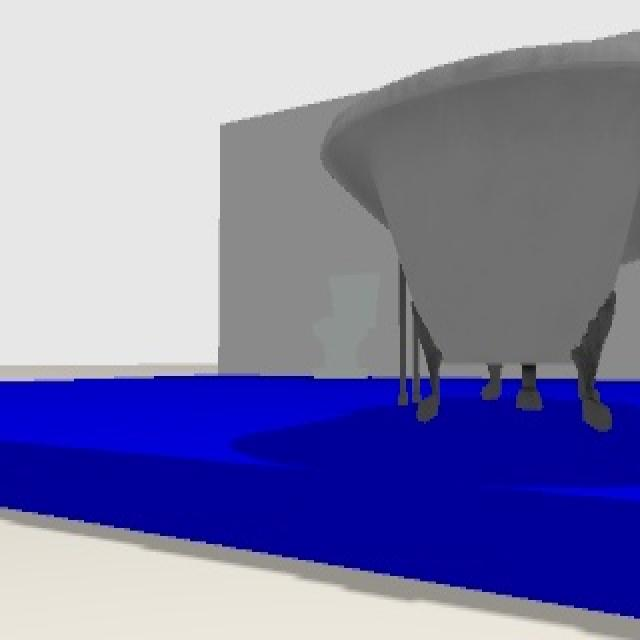bathtub: (320, 40, 638, 429)
